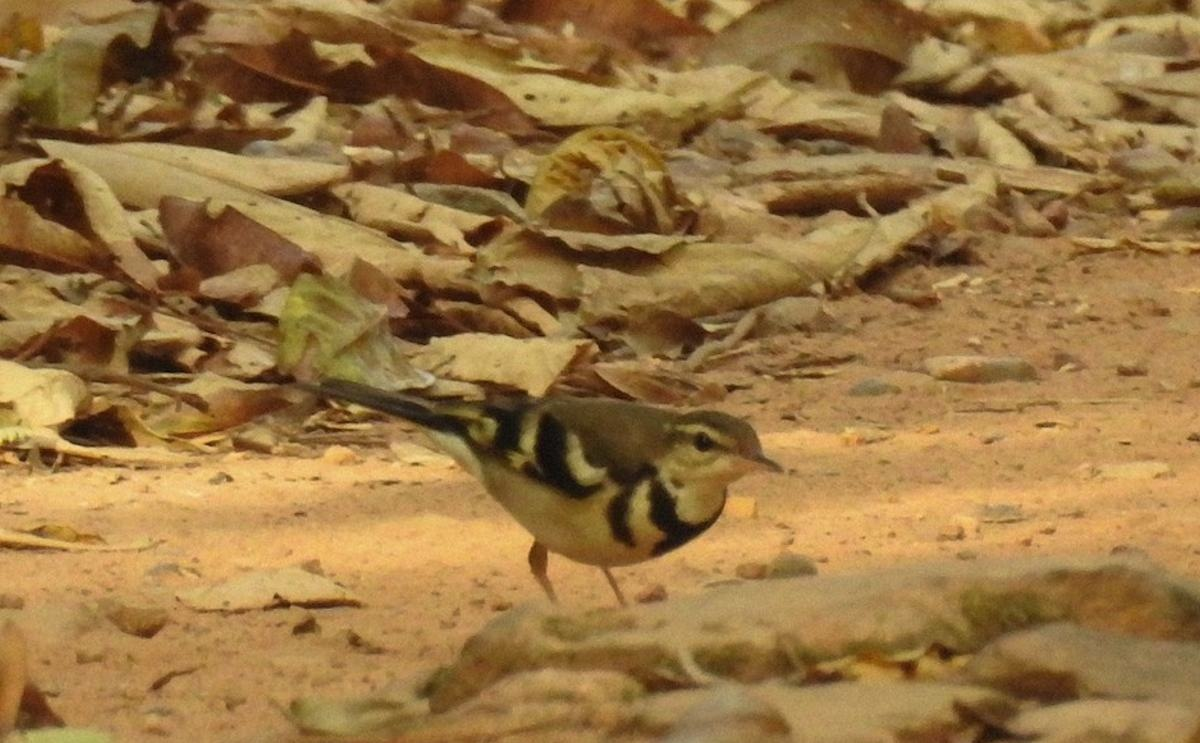wagtail: (349, 362, 821, 584)
